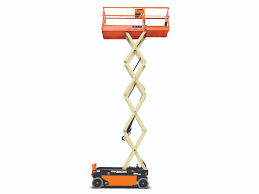Scissor Lift: (91, 5, 172, 189)
